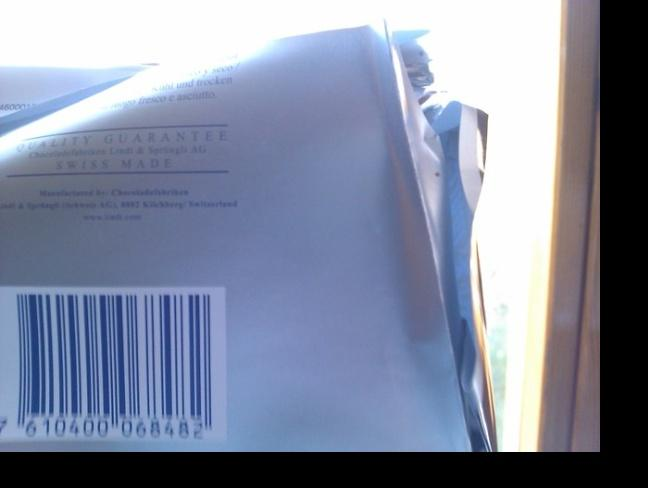Barcode: (1, 290, 220, 443)
